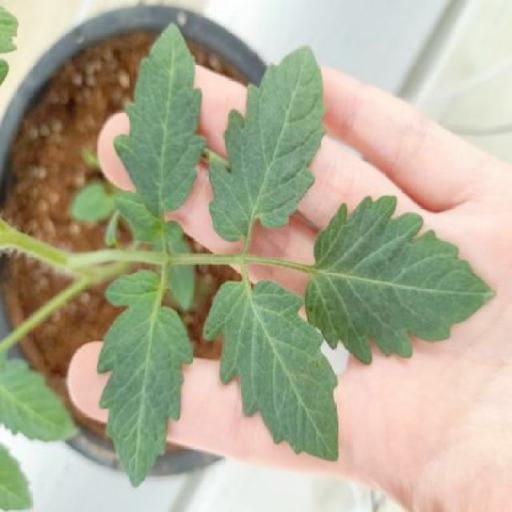Healthy: (304, 198, 496, 364), (202, 282, 340, 462), (209, 48, 327, 242), (97, 270, 194, 488), (114, 24, 208, 244)
